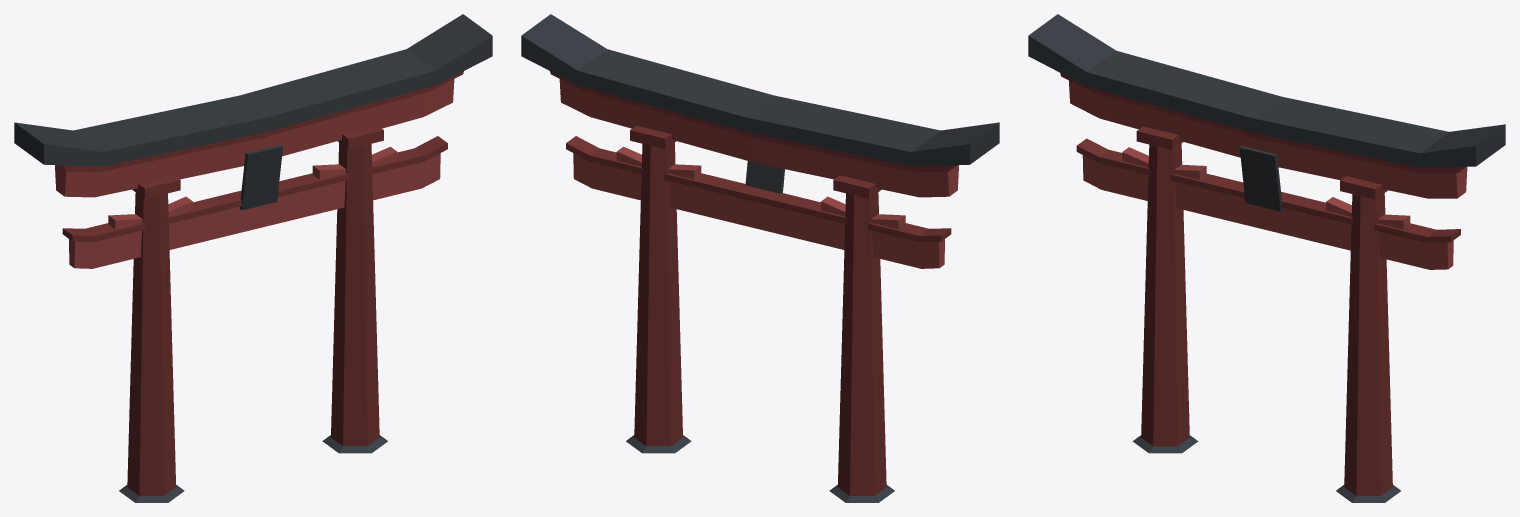
Rendered from Gate1.glb.
The picture shows the model from 3 angles, left to right: view 1: azimuth 30°, elevation 25°; view 2: azimuth 150°, elevation 25°; view 3: azimuth 330°, elevation 25°; orthographic projection.
Visible parts, largest first — view 1: Cylinder.002; view 2: Cylinder.002; view 3: Cylinder.002.
Boxes of the visible parts, box(x1,y1,x2,y2) form: Cylinder.002: box(14, 14, 492, 502); Cylinder.002: box(521, 14, 999, 502); Cylinder.002: box(1028, 14, 1505, 502).
Size of the model in its own units: 7.84 by 6.47 by 1.
